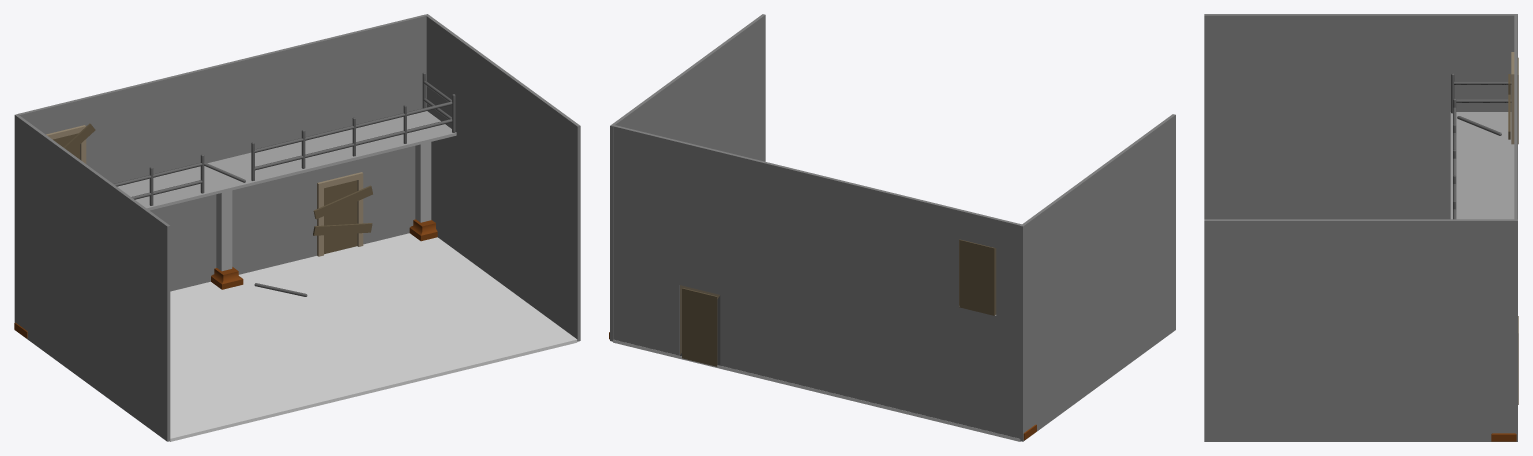
The model's file is Backstage_1.fbx.
The picture shows the model from 3 angles, left to right: view 1: azimuth 30°, elevation 25°; view 2: azimuth 150°, elevation 25°; view 3: azimuth 270°, elevation 25°; orthographic projection. The views are drawn at different scales.
Visible parts, largest first — view 1: Walls, Floor, Catwalk, Fence, Supports, Boards, Doorframe; view 2: Walls, Boards, Floor; view 3: Walls, Catwalk, Fence, Boards, Doorframe.
Boxes of the visible parts, x1,y1,x2,y2 form: Walls: (14, 14, 580, 441); Floor: (170, 233, 577, 441); Catwalk: (117, 111, 456, 210); Fence: (113, 72, 455, 205); Supports: (14, 142, 437, 338); Boards: (53, 123, 372, 254); Doorframe: (46, 125, 363, 256); Walls: (610, 14, 1175, 441); Boards: (682, 239, 995, 366); Floor: (613, 339, 1020, 441); Walls: (1204, 14, 1517, 441); Catwalk: (1450, 112, 1514, 219); Fence: (1451, 73, 1511, 219); Boards: (1508, 57, 1518, 404); Doorframe: (1511, 52, 1514, 144).
Bounding box in the file's own units: 39.74 × 19.85 × 25.36.
